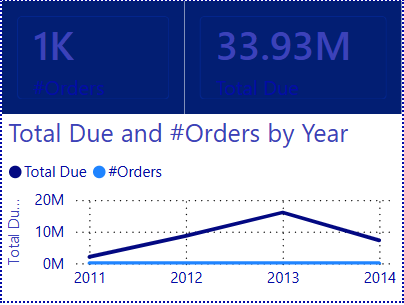

The page's visual inventory and layout, read from the dashboard file:
{"tool":"powerbi","page":{"name":"Tooltip - Product Details","canvas":[320,240],"ordinal":3},"visuals":[{"type":"cardVisual","fields":{"Data":["DAX measures.#Orders"]},"box":[0,0,146,91],"z":0},{"type":"cardVisual","fields":{"Data":["DAX measures.Total Due"]},"box":[146,0,174,91],"z":1000},{"type":"lineChart","fields":{"Category":["dim data.OrderDate.Variation.Date Hierarchy.Year"],"Y":["DAX measures.Total Due","DAX measures.#Orders"]},"box":[0,91,320,149],"z":2000}]}

Visuals, with their boxes in screenshot pixels (x1, y1, x2, y2), scaled from the page's 320x240 canvas onto the 404x305 screenshot:
cardVisual - DAX measures.#Orders: <box>0,0,184,116</box>
cardVisual - DAX measures.Total Due: <box>184,0,403,116</box>
lineChart - dim data.OrderDate.Variation.Date Hierarchy.Year x DAX measures.Total Due: <box>0,116,403,304</box>
